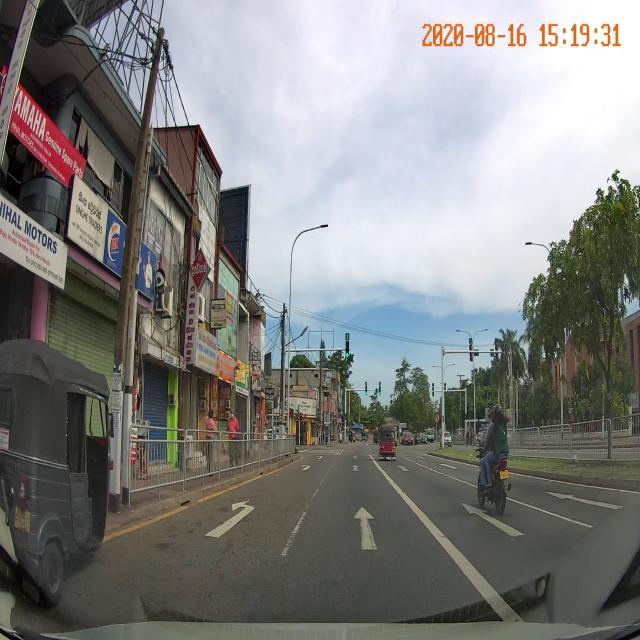forward: (277, 504, 462, 558)
